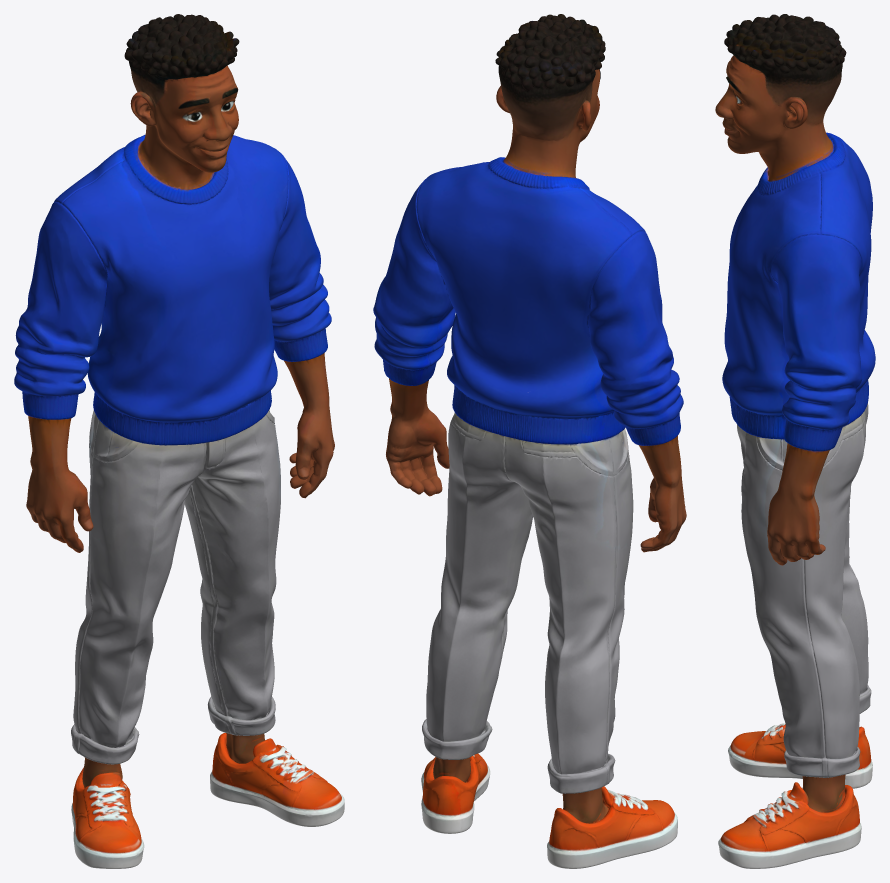
File: Customer_07.glb
3 views of the same model, side by side, from view 1: azimuth 30°, elevation 25°; view 2: azimuth 150°, elevation 25°; view 3: azimuth 270°, elevation 25° (orthographic). The views are drawn at different scales.
Visible parts, largest first — view 1: tripo_node_5ed71f01-fd30-4f8b-8569-3c0e8878a6c8; view 2: tripo_node_5ed71f01-fd30-4f8b-8569-3c0e8878a6c8; view 3: tripo_node_5ed71f01-fd30-4f8b-8569-3c0e8878a6c8.
Part boxes in pixels (<box>): tripo_node_5ed71f01-fd30-4f8b-8569-3c0e8878a6c8: <box>14,14,344,868</box>; tripo_node_5ed71f01-fd30-4f8b-8569-3c0e8878a6c8: <box>373,14,686,868</box>; tripo_node_5ed71f01-fd30-4f8b-8569-3c0e8878a6c8: <box>715,14,875,868</box>.
Size of the model in its own units: 0.3844 by 0.9789 by 0.1806.
1 material, 1 textured.
